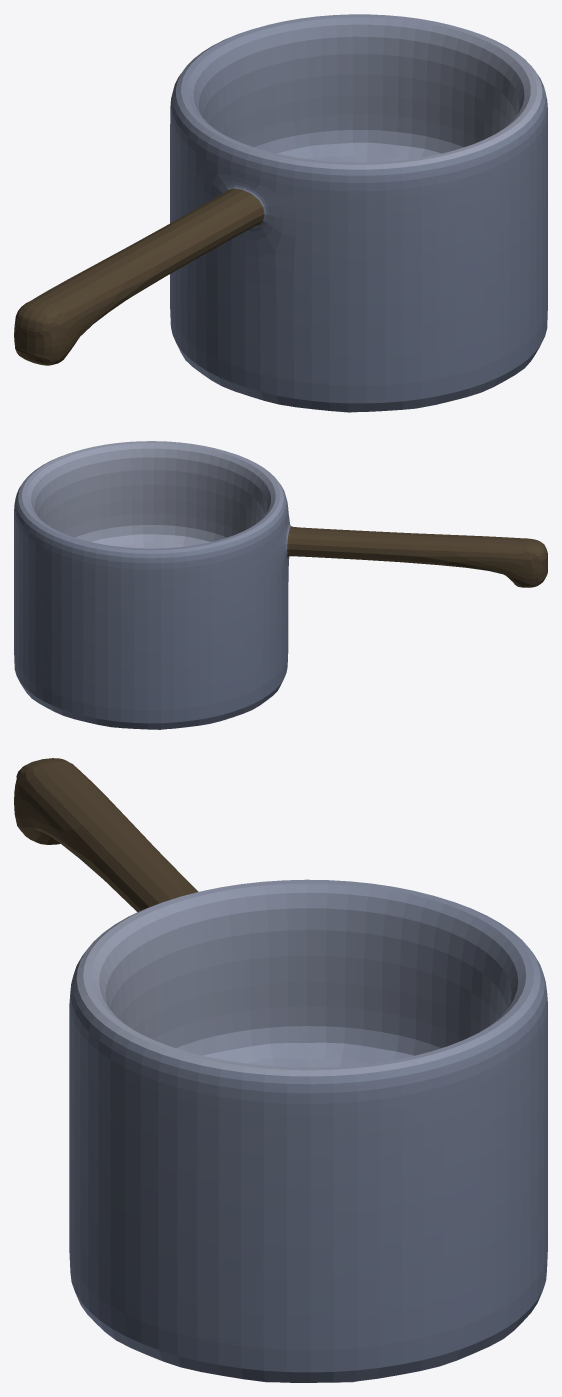
Rendered from Pan (1).fbx.
The picture shows the model from 3 angles, top to bottom: view 1: azimuth 30°, elevation 25°; view 2: azimuth 150°, elevation 25°; view 3: azimuth 270°, elevation 25°; orthographic projection. The views are drawn at different scales.
Visible parts, largest first — view 1: Span; view 2: Span; view 3: Span.
Part boxes in pixels (<box>): Span: <box>14,14,547,412</box>; Span: <box>14,441,547,729</box>; Span: <box>14,758,547,1382</box>.
Bounding box in the file's own units: 183 × 73.55 × 110.
